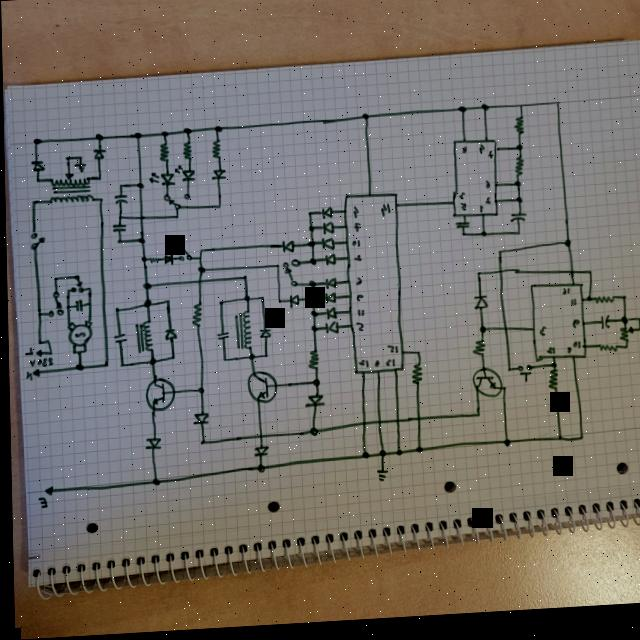capacitor: (111, 192, 128, 207), (110, 332, 127, 346), (508, 216, 525, 230), (214, 331, 229, 343), (110, 223, 126, 234), (598, 319, 608, 336), (452, 225, 469, 234), (73, 298, 82, 312)
crossover: (495, 272, 503, 280), (136, 214, 144, 222), (358, 423, 365, 431), (500, 331, 507, 338), (412, 419, 419, 426), (392, 421, 399, 427), (195, 279, 202, 285), (373, 422, 380, 428), (255, 435, 261, 441), (567, 274, 573, 280)
diode: (172, 164, 195, 185), (148, 171, 174, 188), (302, 395, 323, 411), (189, 412, 208, 429), (248, 446, 268, 462), (470, 299, 488, 316), (141, 437, 159, 452), (209, 168, 226, 183), (29, 158, 45, 173), (279, 241, 294, 257), (255, 328, 271, 343), (162, 327, 176, 343), (320, 239, 334, 254), (322, 293, 336, 308), (286, 295, 299, 311), (161, 251, 173, 268), (322, 279, 336, 293), (320, 208, 333, 223), (323, 324, 337, 337), (321, 224, 334, 238), (92, 148, 106, 161), (322, 256, 335, 269), (324, 310, 336, 322)
ground: (373, 471, 387, 487), (72, 162, 86, 173)
inductor: (232, 312, 251, 353), (133, 321, 152, 354)
junction: (359, 114, 369, 125), (193, 386, 204, 396), (73, 361, 83, 372), (131, 131, 142, 141), (391, 451, 401, 462), (307, 258, 317, 269), (411, 448, 421, 459), (374, 452, 384, 462), (357, 454, 367, 464), (478, 107, 488, 117), (253, 465, 263, 475), (457, 109, 467, 119), (305, 242, 315, 252), (181, 128, 192, 137), (307, 429, 316, 440), (212, 126, 223, 135), (149, 478, 159, 487), (310, 380, 320, 389), (31, 136, 41, 145), (307, 296, 316, 306), (500, 443, 509, 452), (477, 330, 486, 339), (306, 282, 315, 291), (141, 283, 150, 292), (141, 299, 150, 308), (412, 352, 421, 361), (241, 296, 250, 305), (305, 227, 314, 236), (135, 181, 143, 191), (513, 201, 523, 209), (215, 300, 224, 308), (147, 358, 156, 366), (29, 197, 37, 206), (100, 361, 109, 369), (33, 175, 41, 184), (159, 131, 169, 138), (94, 133, 104, 140), (111, 306, 119, 314), (562, 245, 570, 253), (246, 355, 254, 363), (196, 267, 204, 275), (304, 212, 312, 220), (240, 276, 248, 284), (197, 439, 205, 447), (136, 237, 144, 245), (516, 107, 524, 115), (471, 415, 479, 423), (478, 235, 486, 243), (219, 357, 227, 365), (167, 354, 175, 362), (473, 274, 481, 282), (114, 238, 122, 246), (554, 440, 562, 448), (493, 254, 501, 262), (514, 148, 521, 157), (619, 323, 626, 332), (553, 105, 561, 112), (260, 354, 268, 361), (257, 296, 264, 304), (196, 248, 203, 256), (95, 174, 102, 182), (139, 255, 145, 264), (576, 440, 583, 447), (50, 275, 57, 282), (96, 196, 103, 203), (34, 310, 41, 317), (309, 313, 316, 320), (548, 367, 555, 374), (64, 154, 70, 162), (215, 204, 221, 211), (117, 362, 124, 368), (163, 299, 169, 306), (308, 329, 315, 335), (458, 236, 465, 242), (619, 301, 625, 307), (513, 186, 519, 192), (514, 235, 520, 241), (84, 301, 90, 307), (63, 303, 69, 309), (172, 215, 178, 221), (116, 214, 122, 220), (43, 338, 48, 344), (46, 349, 51, 355), (85, 287, 91, 292), (504, 371, 509, 377), (500, 390, 504, 397), (36, 339, 41, 344), (77, 155, 82, 160), (585, 302, 589, 308), (117, 183, 121, 189), (64, 288, 69, 292), (586, 276, 590, 280), (635, 324, 639, 328), (634, 334, 638, 338), (621, 352, 625, 356)
resistor: (189, 302, 202, 328), (305, 351, 320, 372), (545, 373, 557, 396), (616, 333, 632, 350), (408, 369, 421, 389), (471, 342, 484, 361), (210, 139, 221, 161), (181, 141, 192, 163), (158, 144, 169, 164), (513, 122, 525, 140), (513, 161, 523, 181), (595, 349, 615, 359), (593, 301, 613, 310), (148, 256, 159, 264)
switch: (278, 260, 301, 289), (162, 192, 190, 214), (46, 290, 63, 317), (27, 229, 44, 249), (514, 369, 531, 388), (69, 273, 82, 294), (177, 249, 191, 262)
terminal: (40, 484, 53, 495), (33, 347, 41, 357), (30, 367, 38, 377)
text: (25, 355, 52, 367), (378, 206, 389, 220), (384, 347, 397, 358), (382, 361, 395, 371), (35, 496, 44, 510), (544, 350, 555, 361), (348, 241, 360, 251), (351, 224, 360, 237), (350, 208, 358, 222), (536, 331, 546, 342), (567, 302, 577, 313), (569, 324, 579, 335), (356, 361, 366, 372), (475, 149, 485, 159), (354, 311, 364, 321), (22, 345, 32, 355), (351, 257, 361, 267), (352, 297, 363, 306), (570, 346, 579, 356), (352, 280, 362, 289), (457, 207, 467, 216), (559, 293, 569, 302), (482, 184, 490, 195), (354, 325, 362, 336), (458, 150, 467, 159), (483, 200, 491, 210), (23, 370, 31, 380), (457, 196, 464, 205), (486, 154, 492, 164), (371, 363, 378, 371), (564, 352, 570, 360), (477, 209, 482, 218)
transformer: (46, 171, 93, 207)
transistor: (141, 375, 175, 413), (243, 370, 277, 407), (469, 373, 501, 403)
